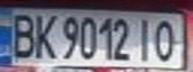0: (78, 14, 96, 61)
1: (96, 15, 115, 61)
2: (112, 15, 133, 62)
9: (57, 11, 81, 61)
B: (6, 10, 39, 60)
I: (133, 15, 157, 63)
K: (30, 11, 57, 61)
O: (151, 16, 181, 63)
